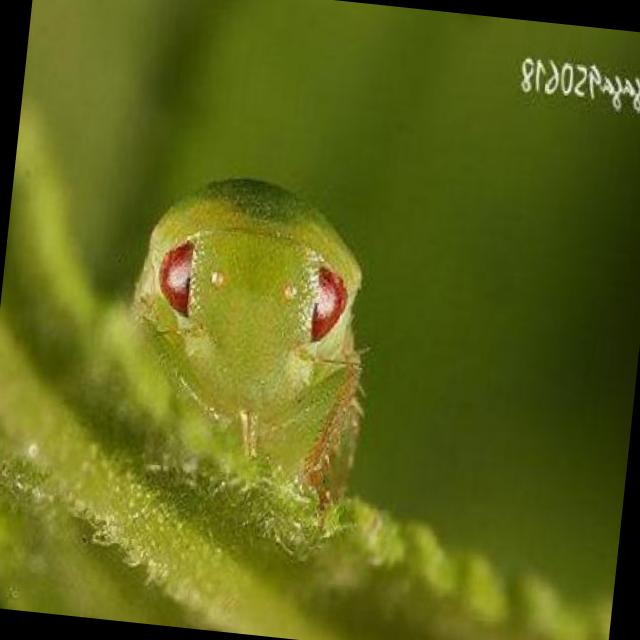green-leafhopper: (95, 156, 390, 503)
